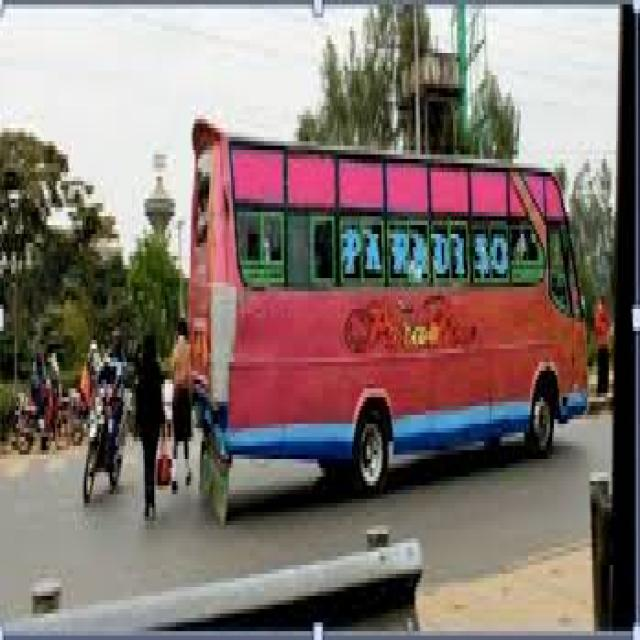bodaboda: (80, 373, 128, 517)
bus: (190, 110, 610, 495)
